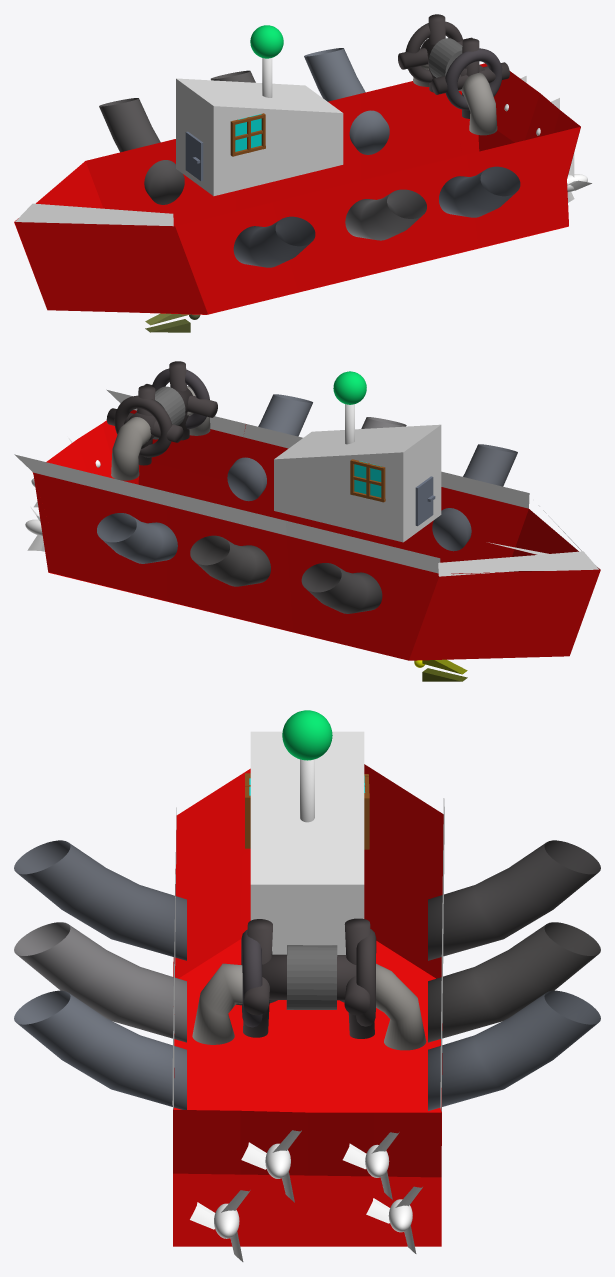
The model's file is sip.glb.
3 views of the same model, one above another, from view 1: azimuth 30°, elevation 25°; view 2: azimuth 150°, elevation 25°; view 3: azimuth 270°, elevation 25° (orthographic). The views are drawn at different scales.
Parts seen in each view (by area): view 1: 立方体, MainShip_Face_0037, MainShip_Face_0012, MainShip_Face_0054, MainShip_Face_0053, MainShip_Face_0052, MainShip_Face_0011, MainShip_Face_0051, MainShip_Face_0040, MainShip_Face_0056, MainShip_Face_0061, MainShip_Face_0055 (+27 smaller); view 2: 立方体, MainShip_Face_0012, MainShip_Face_0037, MainShip_Face_0040, MainShip_Face_0046, MainShip_Face_0032, 立方体_Face_0006, MainShip_Face_0022, gyorai_5, gyorai_4, gyorai_6, gyorai_3 (+27 smaller); view 3: 立方体_Face_0006, MainShip_Face_0032, gyorai_1, gyorai_6, gyorai_4, gyorai_3, gyorai_2, gyorai_5, 立方体, MainShip_Face_0049, MainShip_Face_0026, MainShip_Face_0061 (+28 smaller).
Part boxes in pixels (left/top/right/bottom): 立方体: left=176, top=80, right=343, bottom=195; MainShip_Face_0037: left=360, top=63, right=487, bottom=180; MainShip_Face_0012: left=85, top=139, right=236, bottom=226; MainShip_Face_0054: left=475, top=178, right=568, bottom=247; MainShip_Face_0053: left=289, top=232, right=388, bottom=292; MainShip_Face_0052: left=192, top=259, right=298, bottom=314; MainShip_Face_0011: left=467, top=127, right=580, bottom=189; MainShip_Face_0051: left=382, top=209, right=478, bottom=270; MainShip_Face_0040: left=235, top=94, right=360, bottom=211; MainShip_Face_0056: left=111, top=268, right=207, bottom=314; MainShip_Face_0061: left=95, top=224, right=191, bottom=270; MainShip_Face_0055: left=31, top=266, right=127, bottom=312; 立方体: left=274, top=425, right=441, bottom=542; MainShip_Face_0012: left=286, top=535, right=438, bottom=660; MainShip_Face_0037: left=33, top=472, right=166, bottom=601; MainShip_Face_0040: left=166, top=506, right=292, bottom=632; MainShip_Face_0046: left=489, top=569, right=600, bottom=658; MainShip_Face_0032: left=409, top=571, right=520, bottom=660; 立方体_Face_0006: left=274, top=424, right=440, bottom=459; MainShip_Face_0022: left=422, top=487, right=528, bottom=551; gyorai_5: left=190, top=535, right=270, bottom=586; gyorai_4: left=97, top=513, right=177, bottom=563; gyorai_6: left=301, top=563, right=382, bottom=613; gyorai_3: left=227, top=394, right=312, bottom=501; 立方体_Face_0006: left=250, top=731, right=364, bottom=884; MainShip_Face_0032: left=374, top=773, right=443, bottom=978; gyorai_1: left=14, top=840, right=186, bottom=960; gyorai_6: left=428, top=840, right=600, bottom=960; gyorai_4: left=428, top=990, right=600, bottom=1110; gyorai_3: left=14, top=990, right=186, bottom=1109; gyorai_2: left=14, top=922, right=186, bottom=1042; gyorai_5: left=428, top=922, right=600, bottom=1042; 立方体: left=250, top=884, right=364, bottom=954; MainShip_Face_0049: left=307, top=1019, right=374, bottom=1112; MainShip_Face_0026: left=240, top=1019, right=307, bottom=1112; MainShip_Face_0061: left=176, top=773, right=243, bottom=896.
Size of what is drawn, in the model's own units: 10.27 by 4.79 by 6.34.
99 materials, 62 textured.
